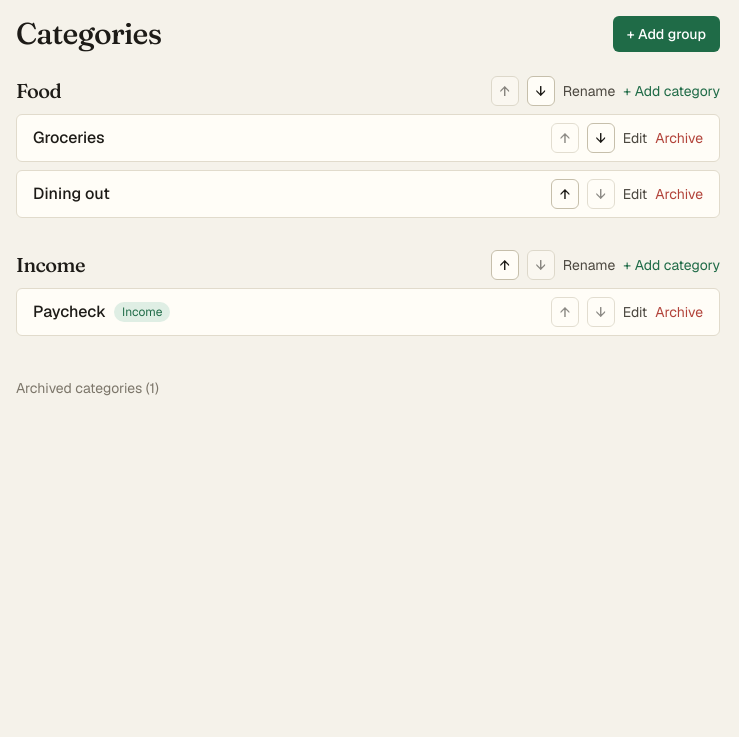
Test: CategoriesPage › opens the category form from a group "+ Add category" button
Expected: the element "Food" is shown, [16,76,720,218]
Click the button "+ Add category" in the row of "Food" at x=672, y=91, box [623,81,720,101]
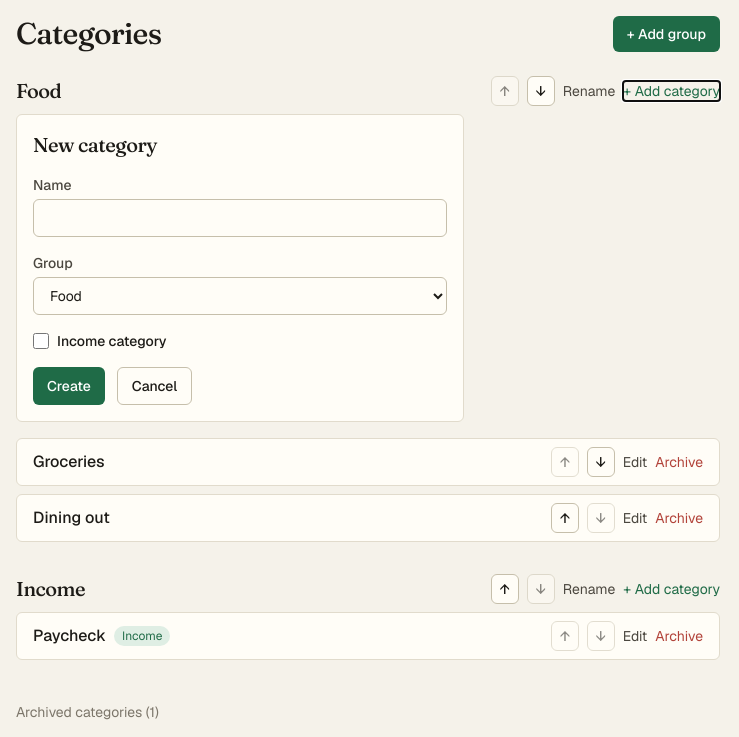
Now the heading "New category" is shown, box [33,132,157,157]
Now the dropdown labelled "Group" shows "Food", box [33,277,447,315]
